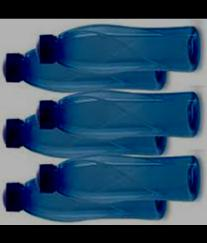Plastic: (35, 88, 199, 140)
